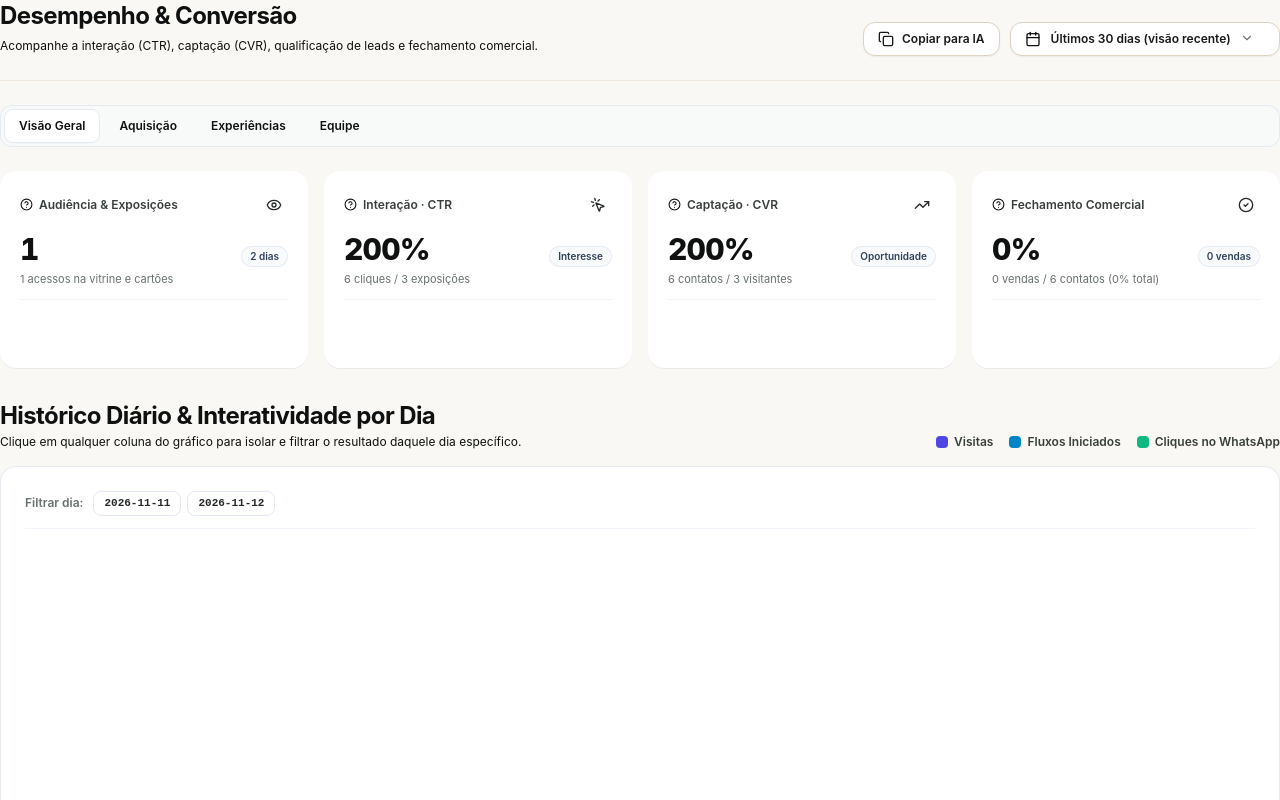
Test case: Ranking da equipe no painel de desempenho › exibe os cliques uma vez, usa ações por visita e não inclui uma linha para o identificador interno
Click the tab "Equipe" at (340, 126), box [306,110,374,142]
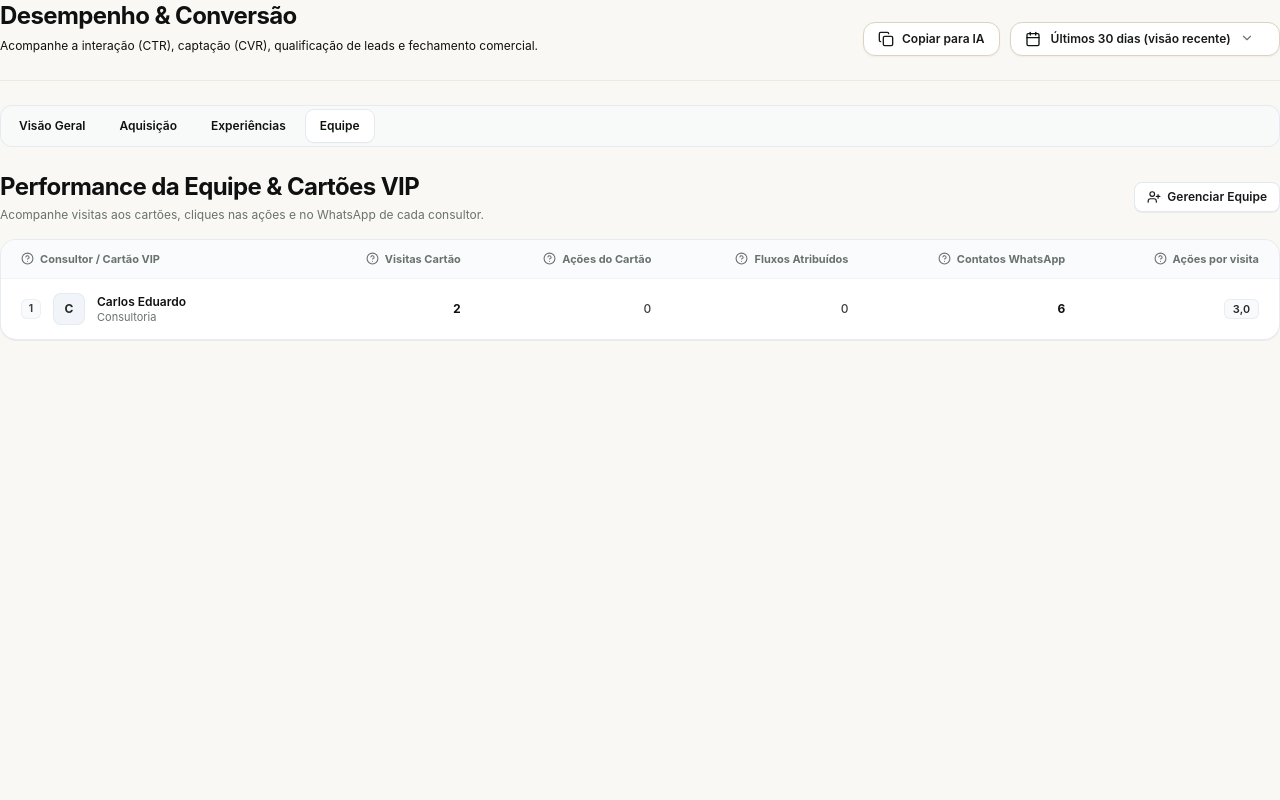
Check: the cell "3,0" is shown, box [1081,279,1279,339]
Check: the text "Ações por visita" is shown, box [1172,252,1259,266]
Check: the number of rows is 2, box [1,240,1279,279]; [1,279,1279,339]
